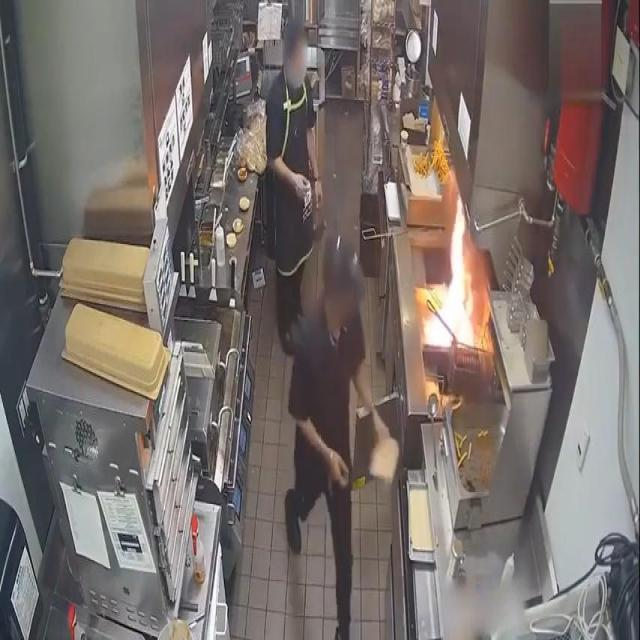smoke: (421, 188, 482, 358)
